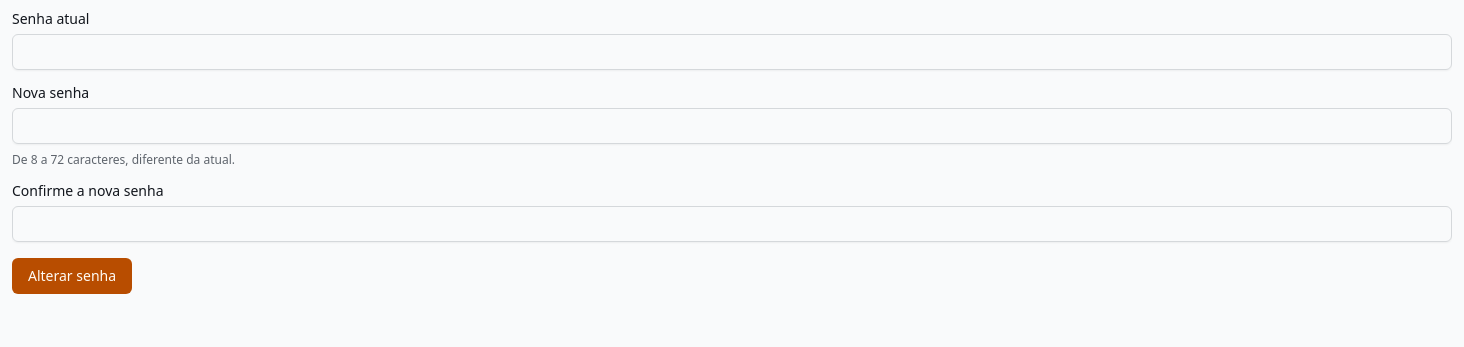
PasswordChangeForm › changes the password and explains that other sessions ended
The image size is (1464, 347).
Type "old-password-1" into the password field labelled "Senha atual" at (732,52), box [12,34,1452,70]
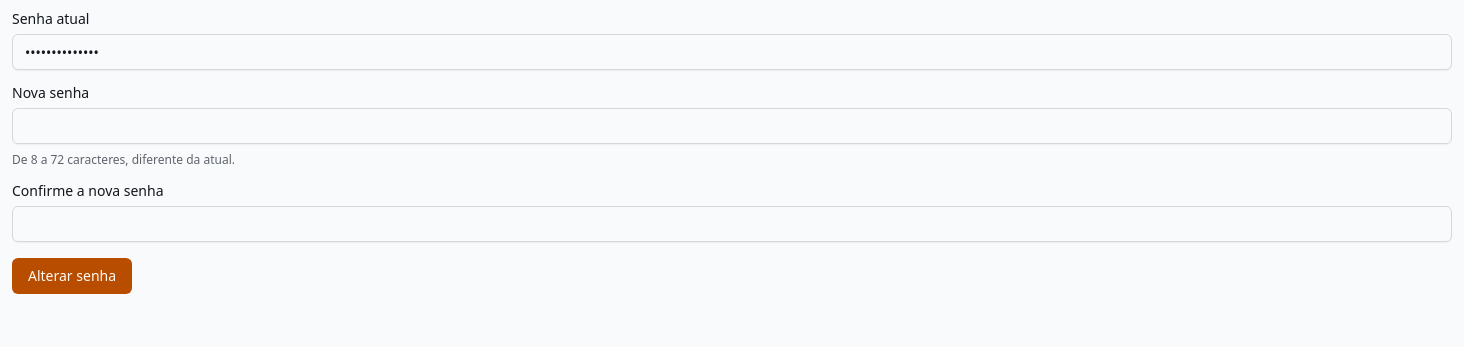
Type "new-password-9" into the password field labelled "Nova senha" at (732,126), box [12,108,1452,144]
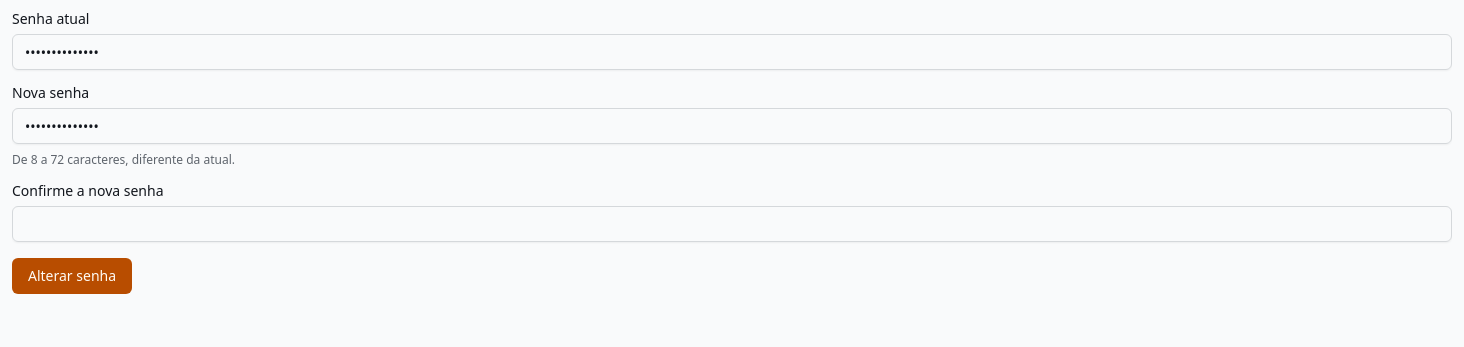
Type "new-password-9" into the password field labelled "Confirme a nova senha" at (732,224), box [12,206,1452,242]
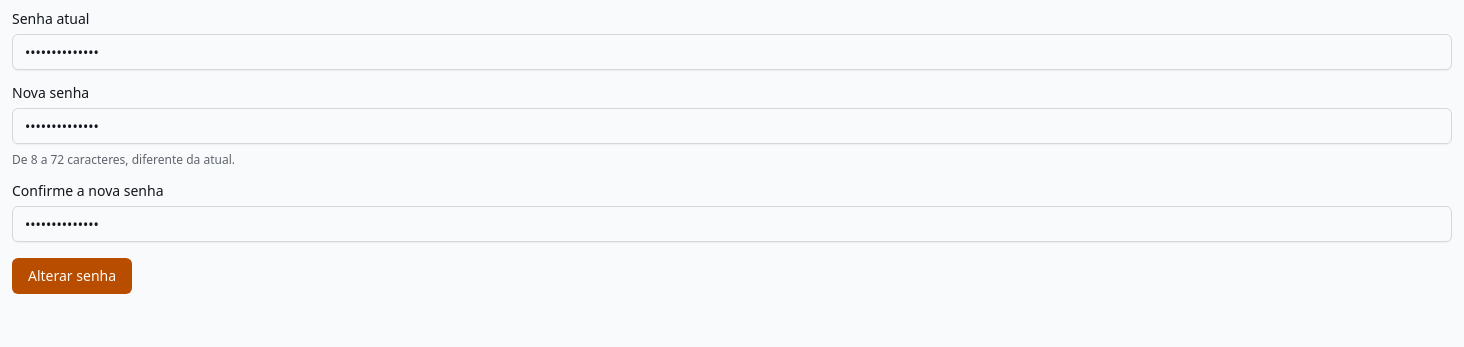
Click the button "Alterar senha" at (72,276), box [12,258,132,294]
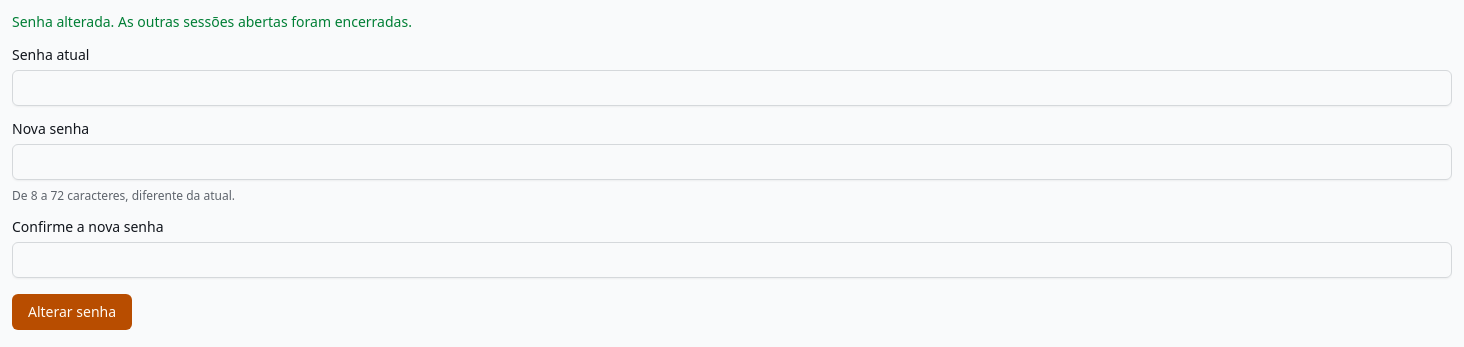
Result: the message shows "outras sessões" at [12,12,412,31]
Result: the password field labelled "Nova senha" is empty at [12,144,1452,180]
